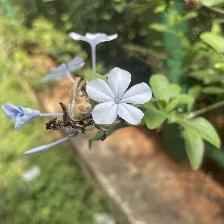chitrak: (84, 65, 151, 130), (68, 30, 119, 50)
